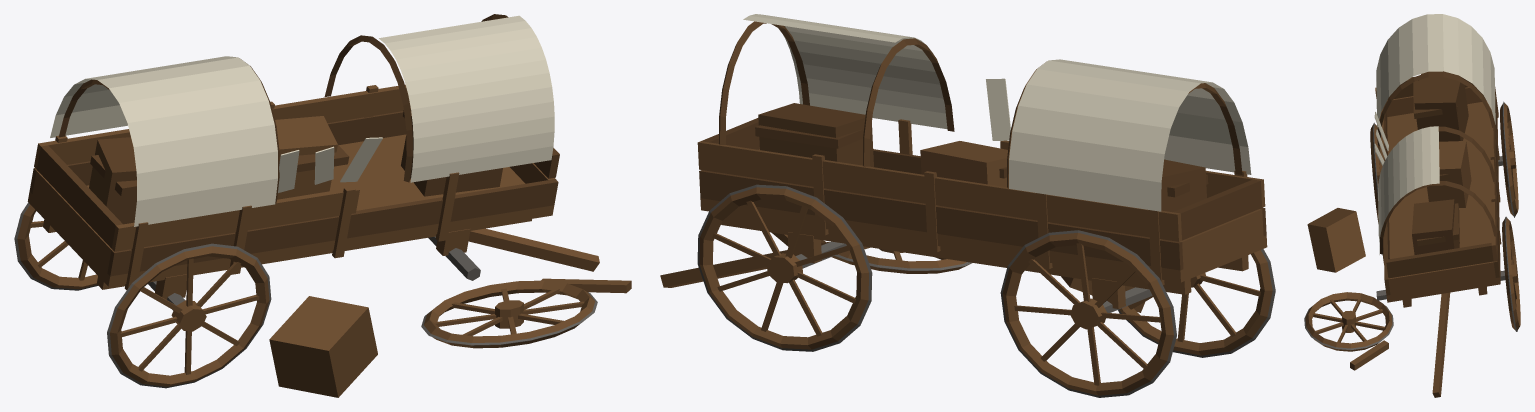
Rendered from wagon-wreck-a.glb.
The picture shows the model from 3 angles, left to right: view 1: azimuth 30°, elevation 25°; view 2: azimuth 150°, elevation 25°; view 3: azimuth 270°, elevation 25°; orthographic projection. The views are drawn at different scales.
Visible parts, largest first — view 1: Body_Wood, Body_Canvas, Body_WoodDark, Body_Iron; view 2: Body_Wood, Body_Canvas, Body_WoodDark, Body_Iron; view 3: Body_Wood, Body_Canvas, Body_WoodDark, Body_Iron.
Boxes of the visible parts, left/top/right/bottom form: Body_Wood: left=17, top=84, right=631, bottom=397; Body_Canvas: left=50, top=15, right=554, bottom=226; Body_WoodDark: left=29, top=14, right=559, bottom=276; Body_Iron: left=14, top=202, right=597, bottom=388; Body_Wood: left=660, top=119, right=1272, bottom=395; Body_Canvas: left=743, top=14, right=1251, bottom=211; Body_WoodDark: left=699, top=21, right=1266, bottom=270; Body_Iron: left=697, top=184, right=1275, bottom=397; Body_Wood: left=1305, top=86, right=1520, bottom=397; Body_Canvas: left=1374, top=14, right=1495, bottom=254; Body_WoodDark: left=1377, top=71, right=1499, bottom=295; Body_Iron: left=1304, top=101, right=1517, bottom=350.
Bounding box in the file's own units: 4 × 2.2 × 2.
